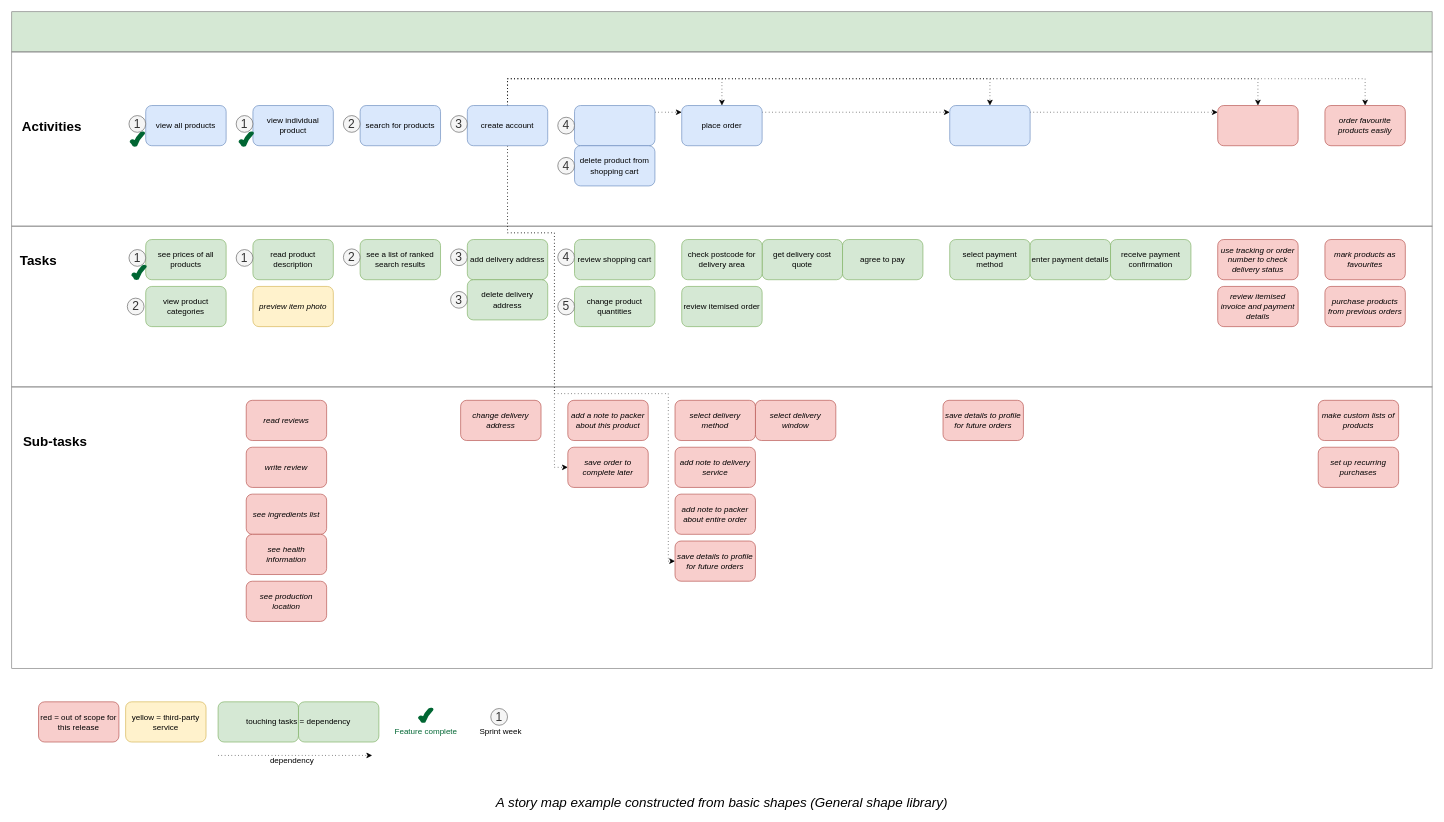
Some shapes in this 1444 by 822 pixel diagram are drawn without their labels. Each missing label, with the box of its shape:
add product to shopping cart: (574, 105, 655, 146)
Customer wants to purchase groceries online: (11, 11, 1432, 52)
pay for order: (949, 105, 1030, 146)
track order: (1217, 105, 1298, 146)
